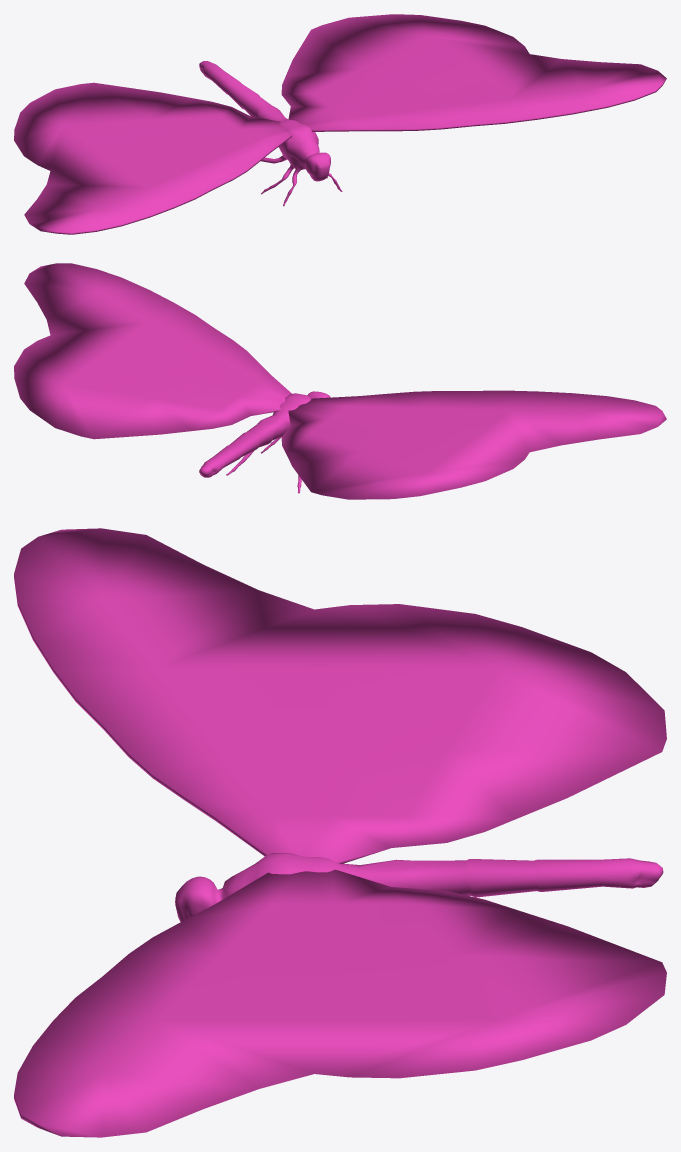
The model's file is butterfly.gltf.
3 renders of one model, top to bottom at view 1: azimuth 30°, elevation 25°; view 2: azimuth 150°, elevation 25°; view 3: azimuth 270°, elevation 25°, orthographic. The views are drawn at different scales.
Visible parts, largest first — view 1: MONARCH; view 2: MONARCH; view 3: MONARCH.
Boxes of the visible parts, left/top/right/bottom form: MONARCH: left=14, top=14, right=666, bottom=234; MONARCH: left=14, top=263, right=666, bottom=499; MONARCH: left=14, top=528, right=666, bottom=1137.
Bounding box in the file's own units: 0.0794 × 0.00925 × 0.036.
